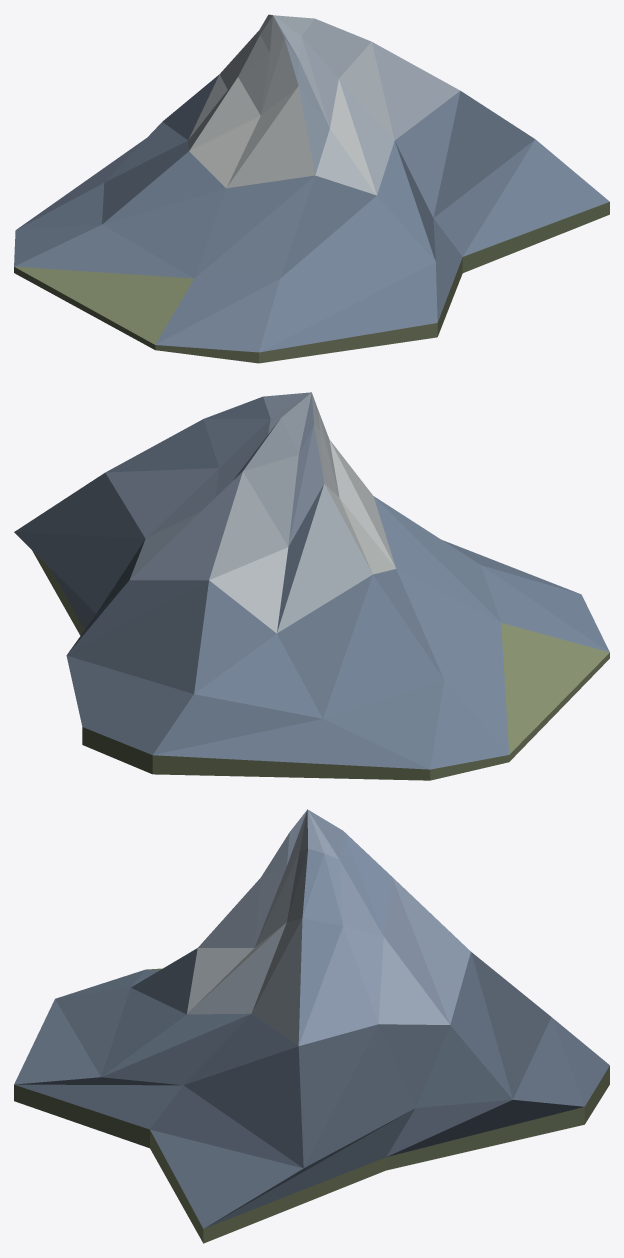
Rendered from massif_frost_crown.glb.
3 renders of one model, top to bottom at view 1: azimuth 30°, elevation 25°; view 2: azimuth 150°, elevation 25°; view 3: azimuth 270°, elevation 25°, orthographic. The views are drawn at different scales.
Visible parts, largest first — view 1: massif_frost_crown; view 2: massif_frost_crown; view 3: massif_frost_crown.
Boxes of the visible parts, x1,y1,x2,y2 form: massif_frost_crown: (14,14,609,363); massif_frost_crown: (14,392,609,780); massif_frost_crown: (14,809,609,1243).
Bounding box in the file's own units: 1055 × 472 × 938.
